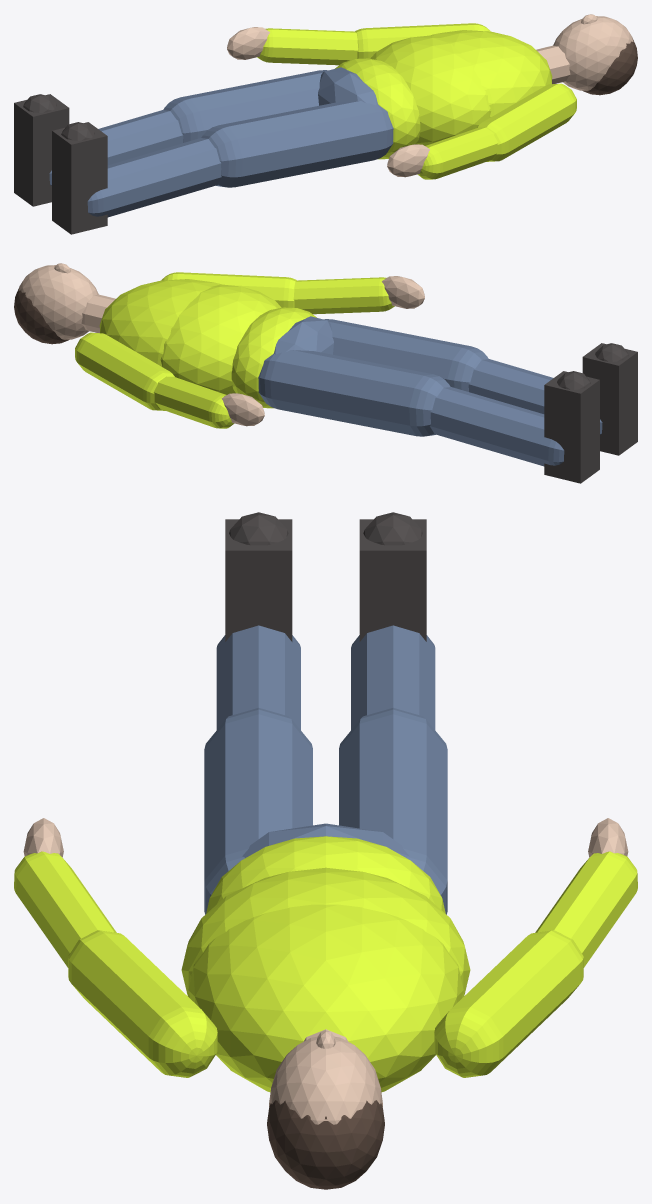
The model's file is survivor.glb.
3 views of the same model, one above another, from view 1: azimuth 30°, elevation 25°; view 2: azimuth 150°, elevation 25°; view 3: azimuth 270°, elevation 25° (orthographic). The views are drawn at different scales.
Parts seen in each view (by area): view 1: jeans, jacket, shoes, skin, hair; view 2: jeans, jacket, shoes, skin, hair; view 3: jacket, jeans, shoes, skin, hair.
Part boxes in pixels (box(x1,y1,x2,y2)): jeans: box(49, 67, 393, 217); jacket: box(257, 23, 576, 179); shoes: box(14, 94, 107, 234); skin: box(227, 14, 633, 177); hair: box(582, 38, 637, 95); jeans: box(258, 316, 602, 466); jacket: box(75, 272, 394, 428); shoes: box(544, 343, 637, 483); skin: box(18, 263, 424, 426); hair: box(14, 287, 69, 344); jacket: box(14, 836, 637, 1092); jeans: box(204, 625, 447, 914); shoes: box(225, 512, 426, 641); skin: box(23, 818, 628, 1124); hair: box(267, 1100, 384, 1189).
Bounding box in the file's own units: 1.79 × 0.36 × 0.9287.
